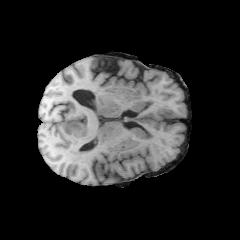glioma: (64, 114, 98, 161)
